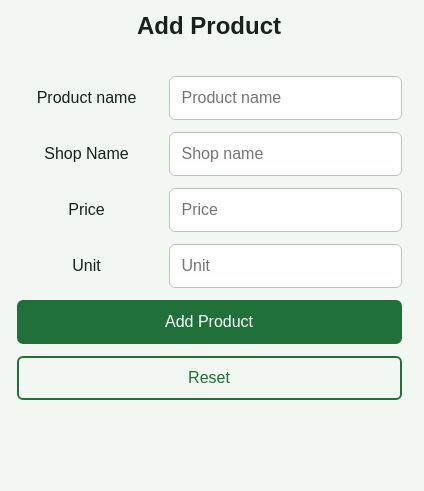
Test: AddProductForm › creates a product and resets the form
Type "Milk" into the field labelled "Product name".
click(285, 98); type("Milk")  # box [168, 76, 402, 120]
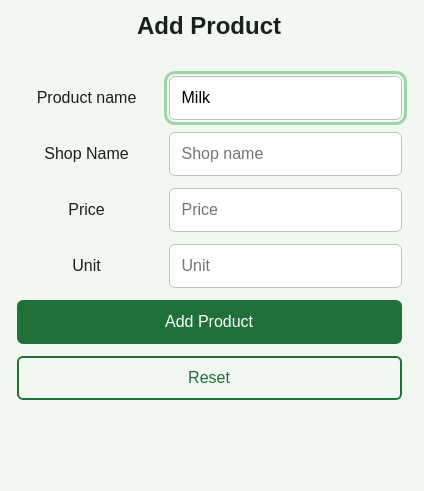
Type "ICA" into the field labelled "Shop Name".
click(285, 154); type("ICA")  # box [168, 132, 402, 176]
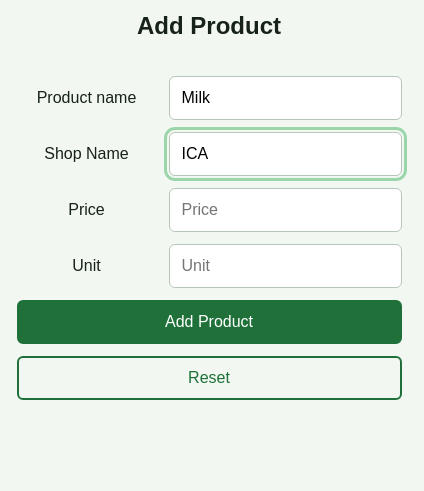
Type "10.9" into the number field labelled "Price".
click(285, 210); type("10.9")  # box [168, 188, 402, 232]
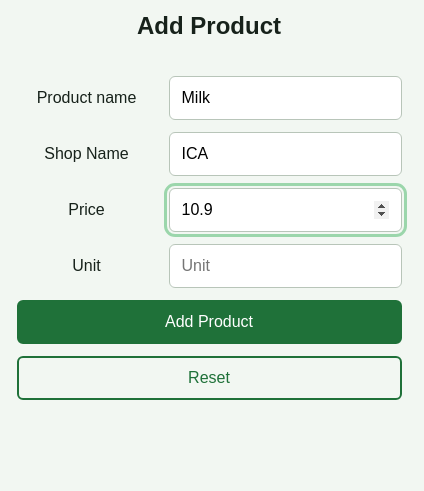
Type "1L" into the field labelled "Unit".
click(285, 266); type("1L")  # box [168, 244, 402, 288]
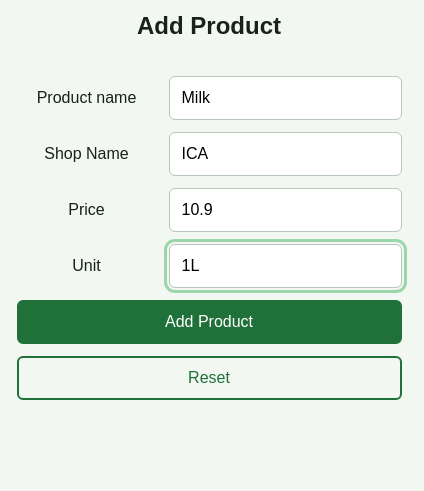
Click the button "Add Product".
click(209, 322)  # box [16, 300, 402, 344]
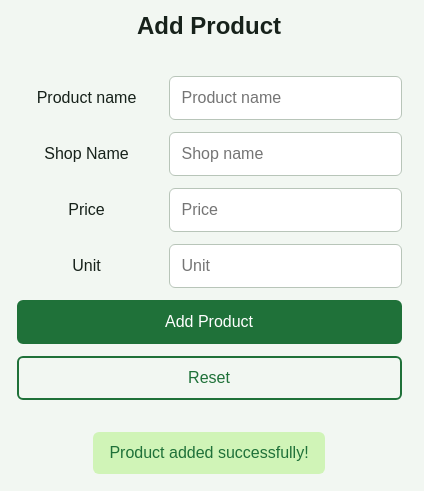
Expected: the text "Product added successfully!" is shown, [93, 432, 325, 474]
Expected: the field labelled "Product name" is empty, [168, 76, 402, 120]
